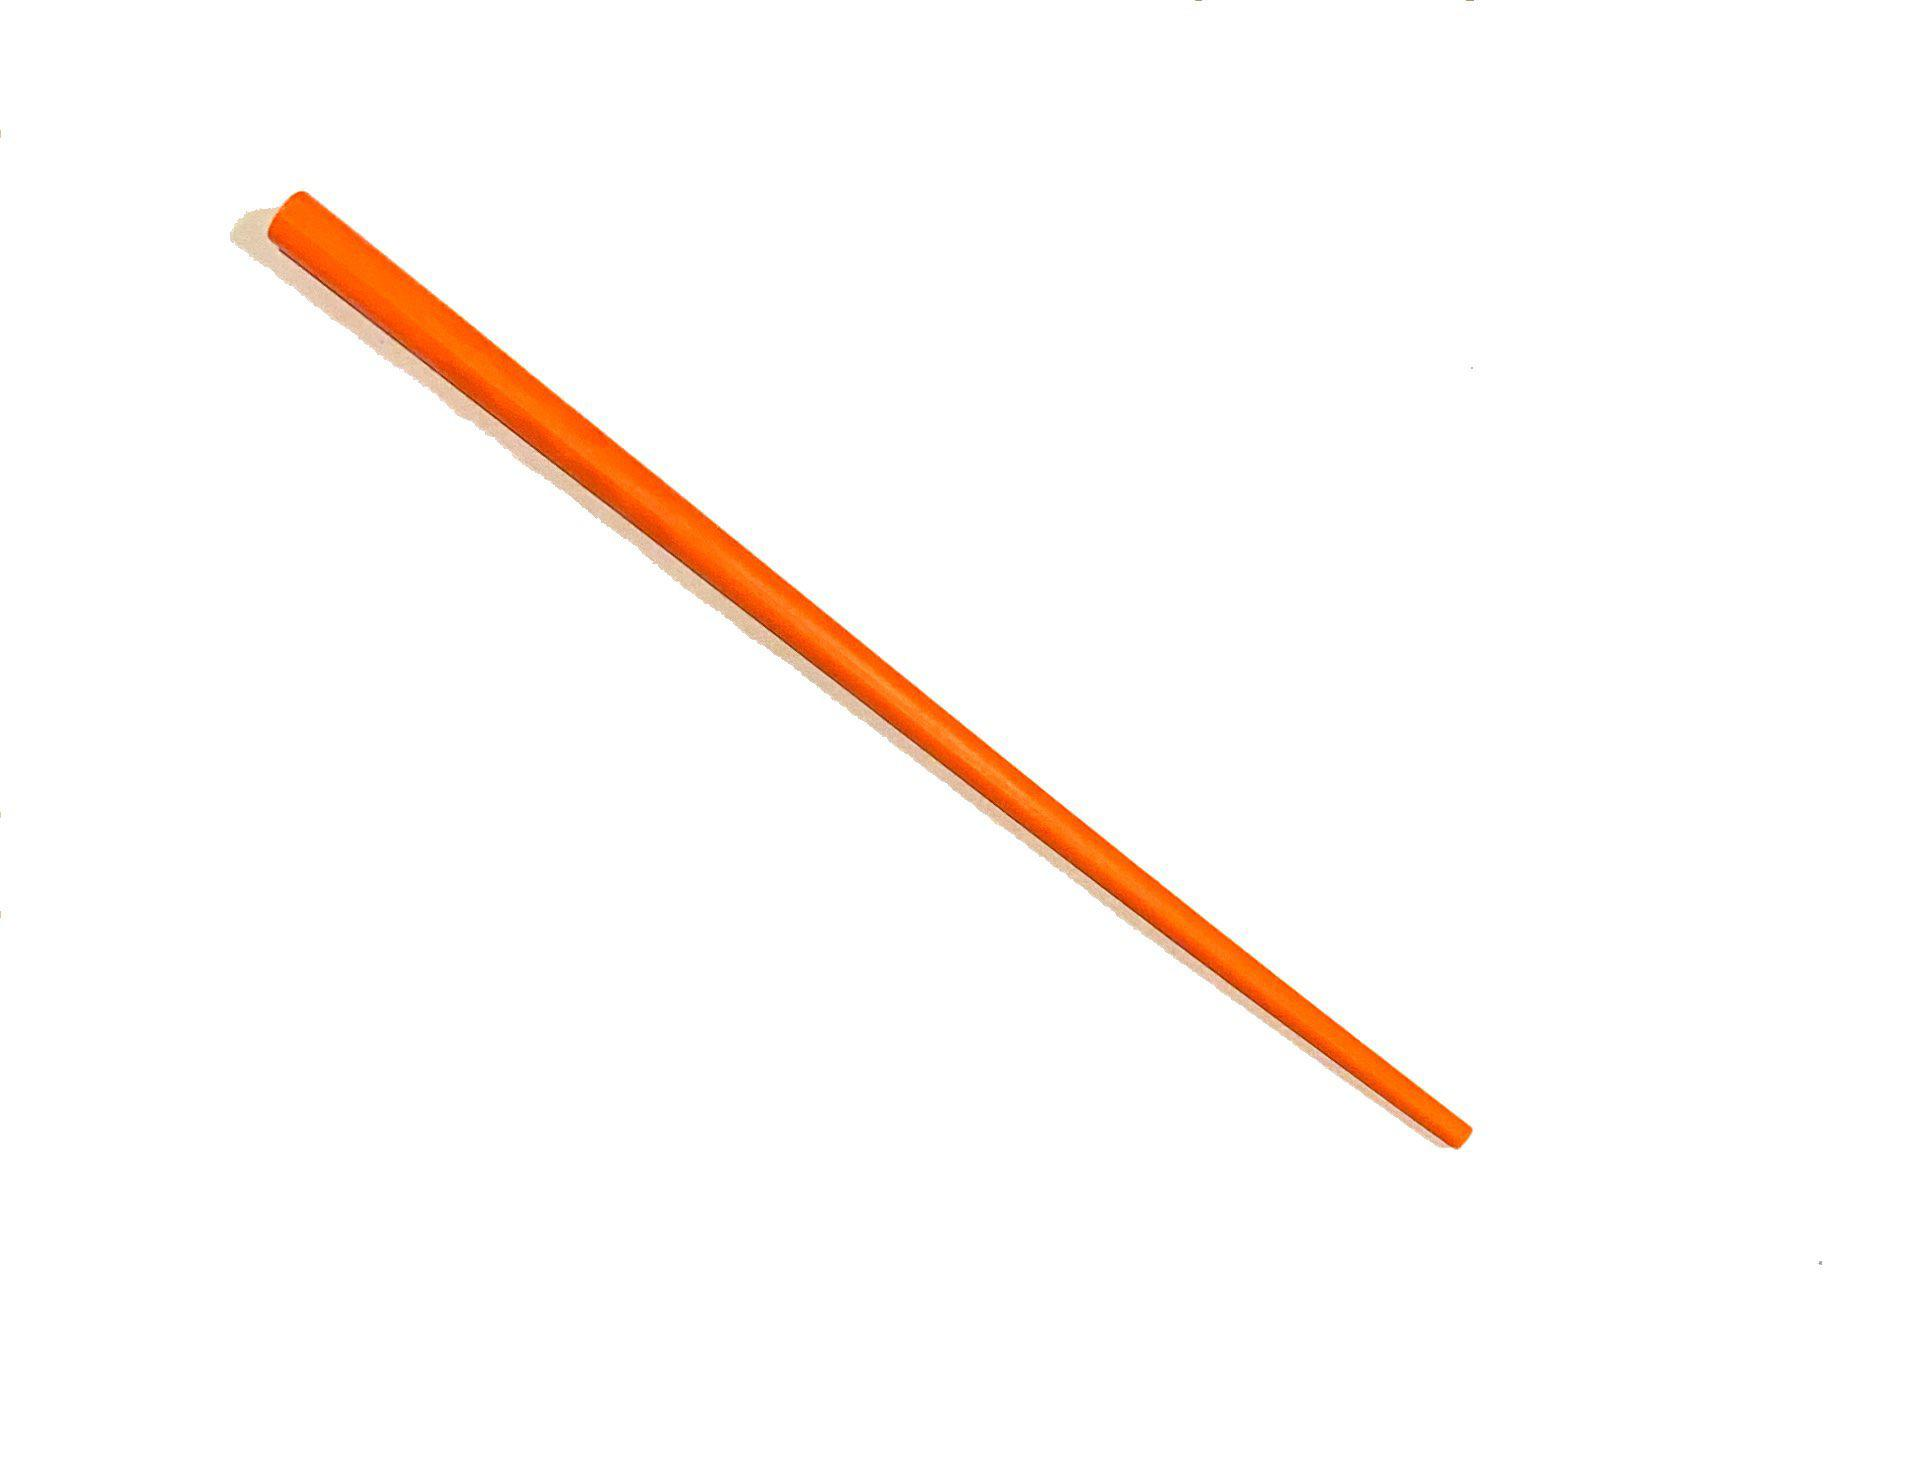Chopstick: (212, 103, 1667, 1243)
